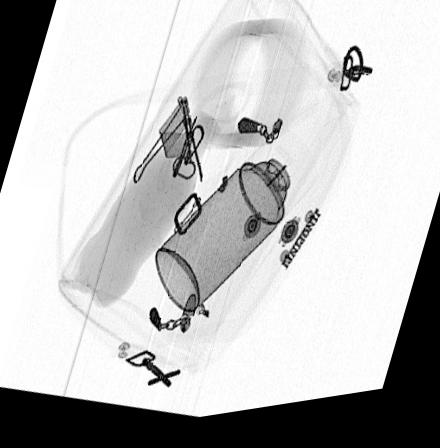Sprayer: (153, 146, 314, 318)
